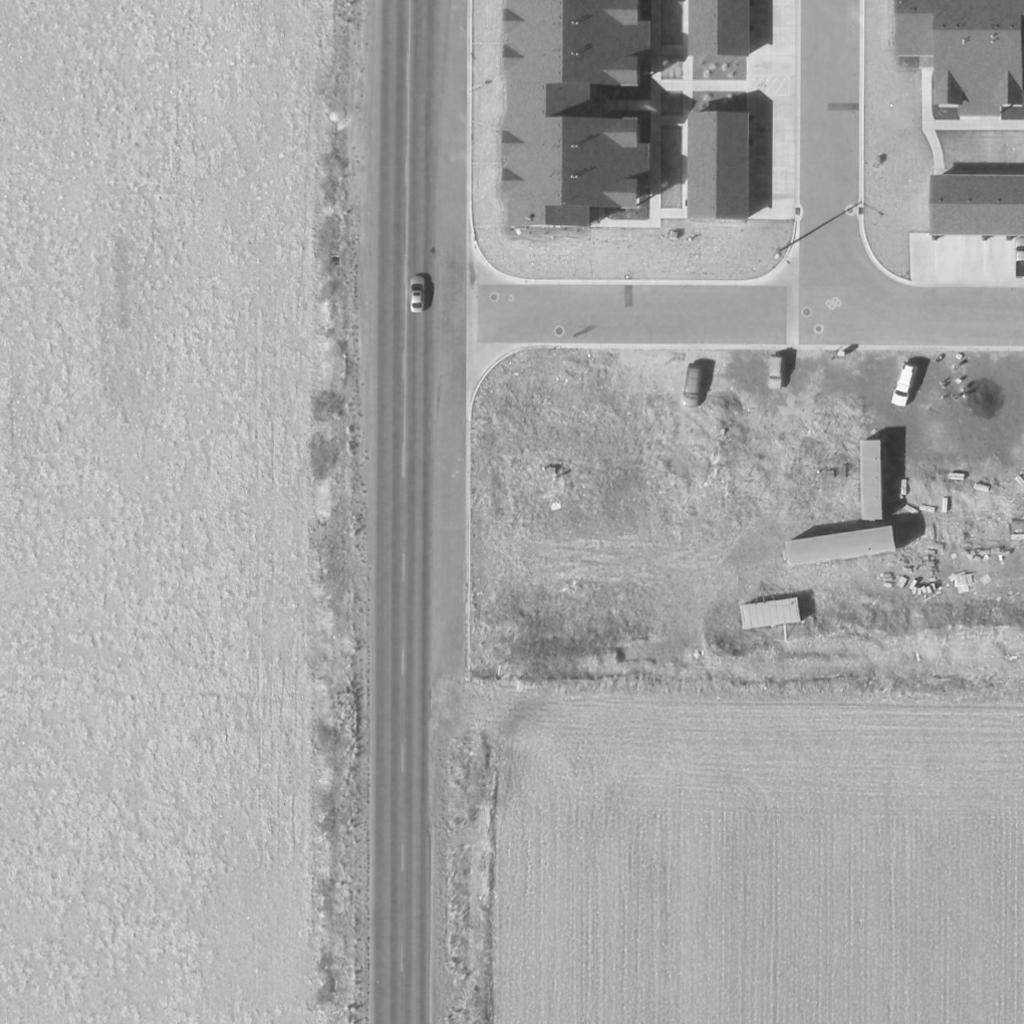vehicle: (889, 361, 921, 407), (684, 363, 706, 409), (766, 356, 784, 392), (409, 276, 425, 314)
